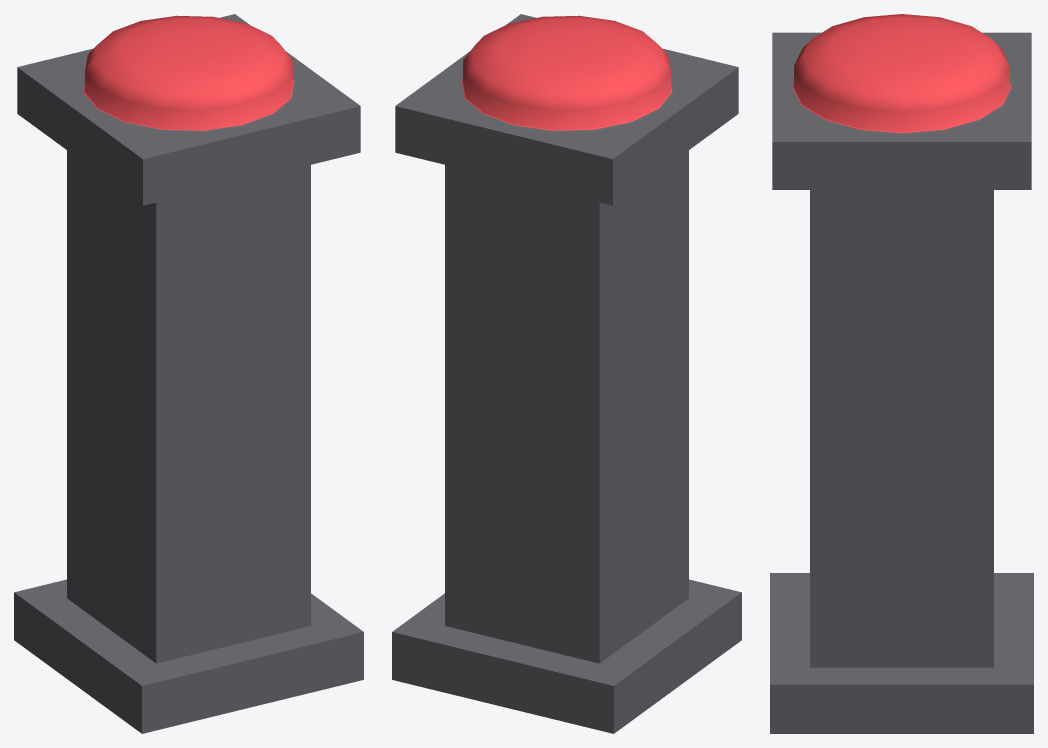
Rendered from button1.fbx.
3 renders of one model, left to right at view 1: azimuth 30°, elevation 25°; view 2: azimuth 150°, elevation 25°; view 3: azimuth 270°, elevation 25°, orthographic. The views are drawn at different scales.
Parts seen in each view (by area): view 1: Cube.001; view 2: Cube.001; view 3: Cube.001.
Part boxes in pixels (left/top/right/bottom): Cube.001: left=14, top=14, right=363, bottom=733; Cube.001: left=392, top=14, right=741, bottom=733; Cube.001: left=770, top=14, right=1033, bottom=733.
Size of the model in its own units: 108 by 286 by 108.
